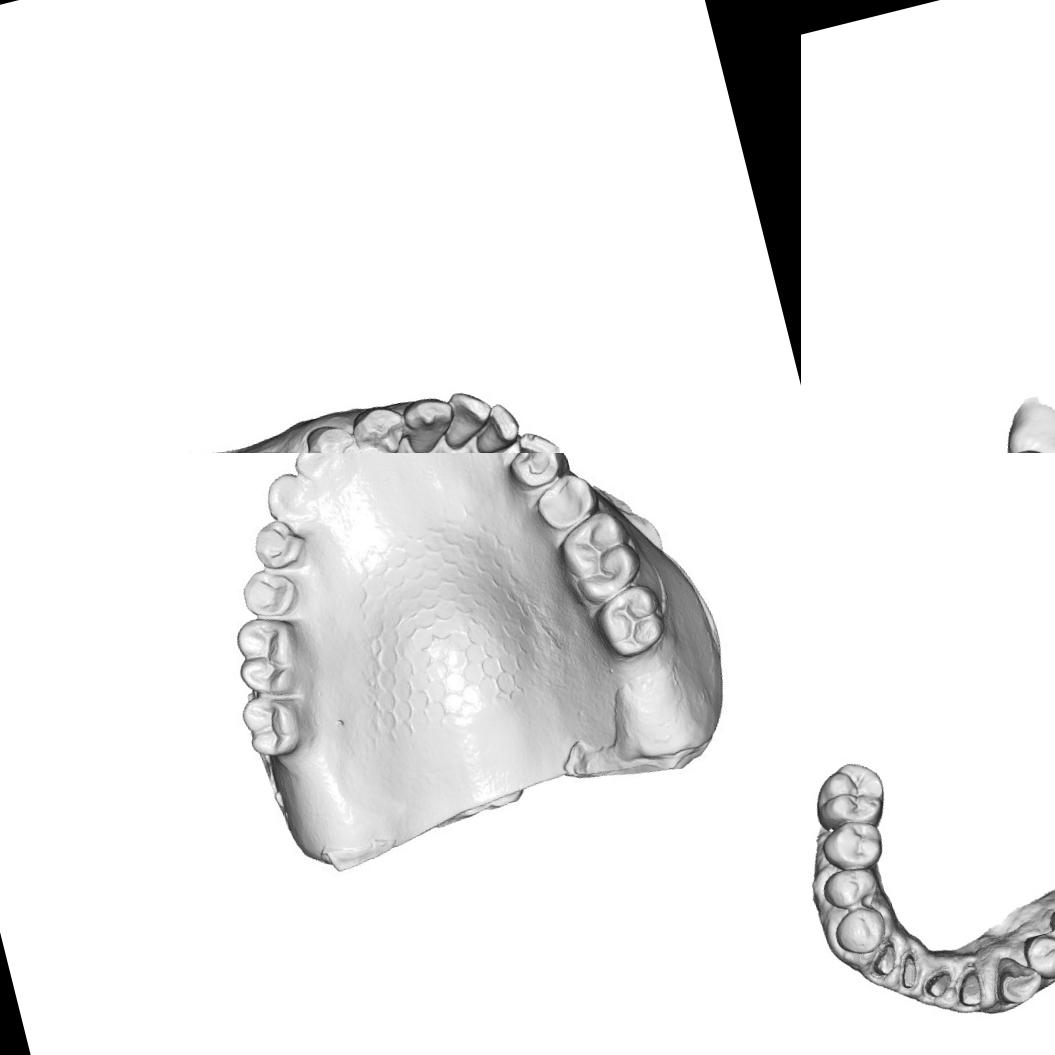canine: (393, 390, 462, 453), (986, 948, 1046, 1009), (829, 901, 890, 959), (265, 470, 314, 525)
crown: (950, 964, 987, 1009), (865, 938, 900, 979), (918, 966, 955, 1001), (892, 950, 923, 990)
incisor: (429, 382, 500, 453), (463, 398, 523, 453), (293, 453, 351, 495), (503, 423, 566, 453)
molar: (804, 755, 892, 841), (558, 511, 639, 596), (228, 613, 308, 693), (595, 582, 668, 655), (236, 688, 311, 758)
premolar: (816, 814, 888, 878), (531, 473, 597, 533), (346, 397, 413, 453), (818, 862, 882, 915), (240, 569, 295, 620), (252, 520, 304, 573), (300, 417, 371, 453), (1018, 927, 1055, 985), (510, 453, 564, 485)
